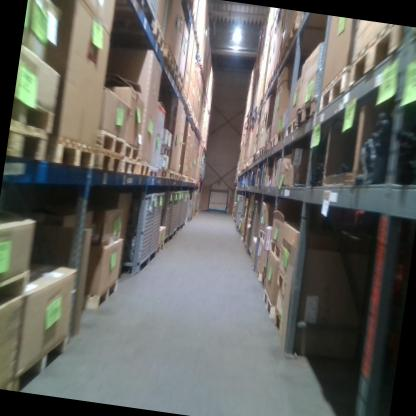pallet: (347, 19, 405, 95), (12, 327, 70, 397), (5, 117, 55, 165), (9, 89, 59, 133), (317, 58, 353, 117), (47, 134, 98, 171), (0, 264, 31, 324), (82, 274, 119, 313), (94, 129, 127, 157), (294, 95, 317, 131), (92, 149, 123, 174), (149, 16, 168, 55), (259, 287, 278, 320), (285, 14, 301, 50), (159, 43, 176, 73), (273, 268, 290, 295), (266, 238, 283, 262), (119, 157, 138, 177), (122, 141, 140, 159), (135, 159, 152, 177), (284, 116, 297, 139), (175, 67, 186, 86), (272, 56, 280, 80), (268, 132, 278, 151), (168, 66, 179, 83), (253, 264, 264, 281), (174, 77, 184, 94), (189, 7, 197, 28), (256, 229, 266, 245), (159, 143, 171, 156), (171, 56, 180, 73), (276, 128, 285, 144), (267, 70, 274, 90), (157, 168, 168, 179), (156, 240, 165, 253), (181, 88, 188, 103), (262, 141, 269, 155), (248, 255, 255, 268), (149, 168, 159, 177), (167, 169, 175, 179), (263, 85, 268, 100), (258, 91, 263, 106), (185, 98, 191, 110), (258, 146, 264, 158), (254, 149, 259, 161), (173, 171, 178, 180), (177, 173, 182, 181)
stillage: (120, 187, 158, 274), (147, 189, 167, 265), (244, 196, 262, 256), (131, 0, 158, 28), (161, 188, 174, 246), (167, 189, 179, 242), (175, 188, 186, 237), (179, 187, 189, 233), (172, 189, 181, 239), (233, 194, 243, 232), (182, 188, 190, 231), (187, 189, 196, 222), (232, 192, 239, 221)
